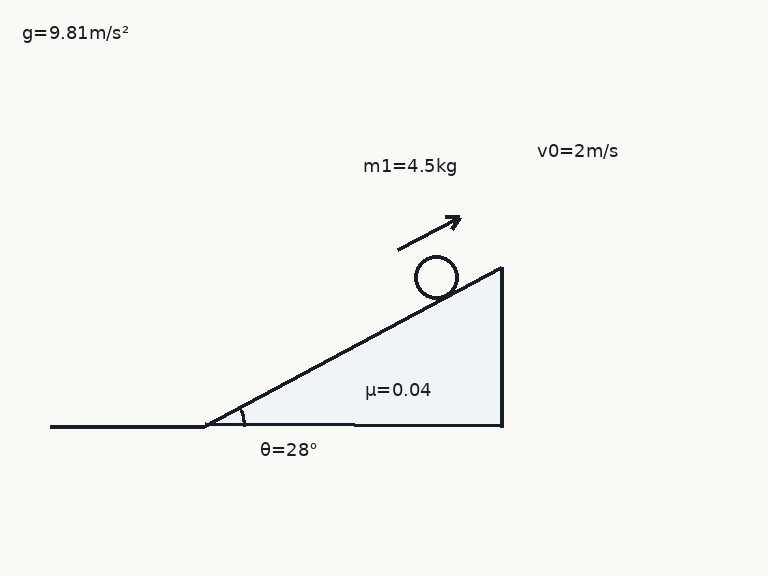ball: (412, 253, 460, 301)
ramp: (202, 266, 504, 428)
